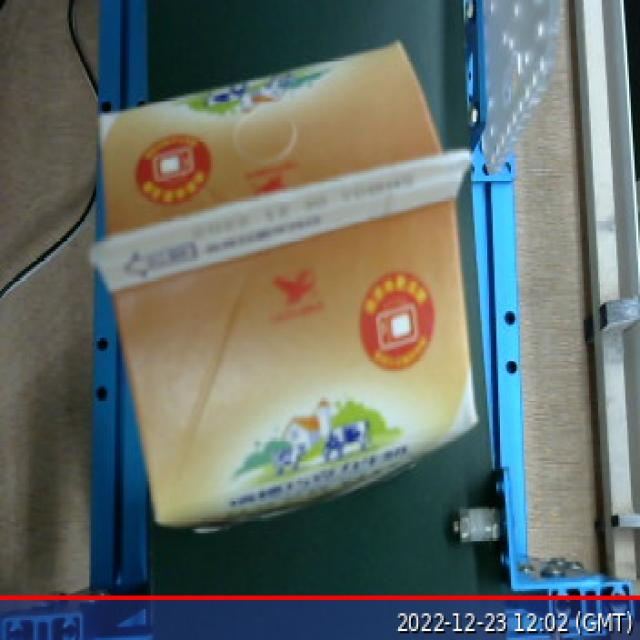non_white_jug: (81, 27, 490, 553)
